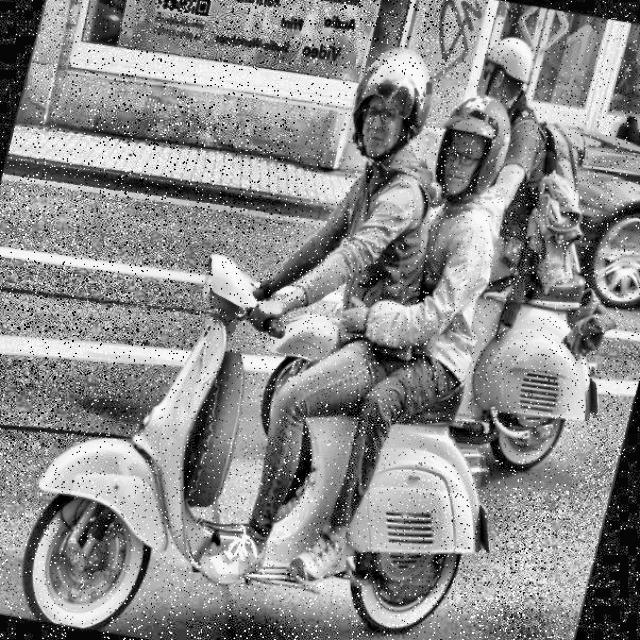Helmet: (337, 37, 450, 179), (424, 86, 527, 218)
